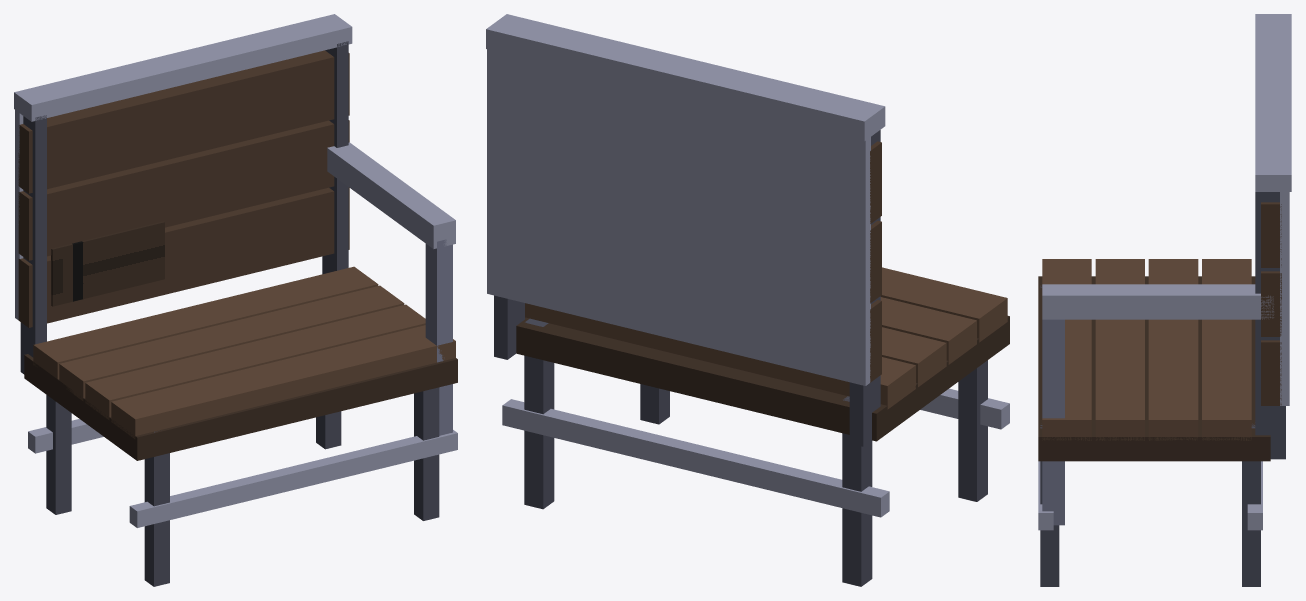
File: CMU3DInheritedStructureRMCCouchEndLowerBrownCloud.glb
3 views of the same model, side by side, from view 1: azimuth 30°, elevation 25°; view 2: azimuth 150°, elevation 25°; view 3: azimuth 270°, elevation 25° (orthographic). The views are drawn at different scales.
Visible parts, largest first — view 1: front wood back panel 2, front wood back panel 1, front wood back panel 0, wood seat board 0, silver top rail, seat structural frame, wood seat board 1, wood seat board 2, wood seat board 3, continuous under-seat rail -0.29, small original wood seam, handed armrest (+9 smaller); view 2: rear sheet metal backing, seat structural frame, silver top rail, continuous under-seat rail 0.26, wood seat board 3, wood seat board 0, short steel leg (0.42, 0.25), short steel leg (-0.42, 0.25), short steel leg (-0.42, -0.28), wood seat board 1, wood seat board 2, back support -0.47 (+6 smaller); view 3: seat structural frame, handed armrest, wood seat board 2, wood seat board 1, wood seat board 3, silver top rail, wood seat board 0, handed arm upright, back support 0.47, rear sheet metal backing, short steel leg (0.42, 0.25), front wood back panel 1 (+5 smaller).
Part boxes in pixels (x1,y1,x2,y2): front wood back panel 2: (18,50,349,193); front wood back panel 1: (18,120,349,260); front wood back panel 0: (18,187,349,327); wood seat board 0: (111,325,455,438); silver top rail: (14,14,352,121); seat structural frame: (24,354,457,460); wood seat board 1: (85,304,425,419); wood seat board 2: (59,285,404,400); wood seat board 3: (33,266,378,379); continuous under-seat rail -0.29: (129,430,457,527); small original wood seam: (51,221,164,306); handed armrest: (327,142,455,248); rear sheet metal backing: (487,49,870,385); seat structural frame: (516,316,1009,441); silver top rail: (486,14,885,141); continuous under-seat rail 0.26: (502,399,889,517); wood seat board 3: (525,303,915,409); wood seat board 0: (880,267,1007,342); short steel leg (0.42, 0.25): (524,318,554,509); short steel leg (-0.42, 0.25): (842,396,872,586); short steel leg (-0.42, -0.28): (958,360,987,501); wood seat board 1: (880,297,976,364); wood seat board 2: (882,327,946,386); back support -0.47: (849,130,880,446); seat structural frame: (1038,276,1270,461); handed armrest: (1042,284,1273,319); wood seat board 2: (1148,259,1198,440); wood seat board 1: (1095,259,1144,440); wood seat board 3: (1202,259,1251,440); silver top rail: (1255,14,1291,191); wood seat board 0: (1042,259,1091,440); handed arm upright: (1042,319,1064,525); back support 0.47: (1255,192,1285,459); rear sheet metal backing: (1280,185,1289,405); short steel leg (0.42, 0.25): (1242,423,1260,586); front wood back panel 1: (1261,271,1281,336).
Bounding box in the file's own units: 1 × 1.22 × 0.665.
7 materials, 1 textured.
